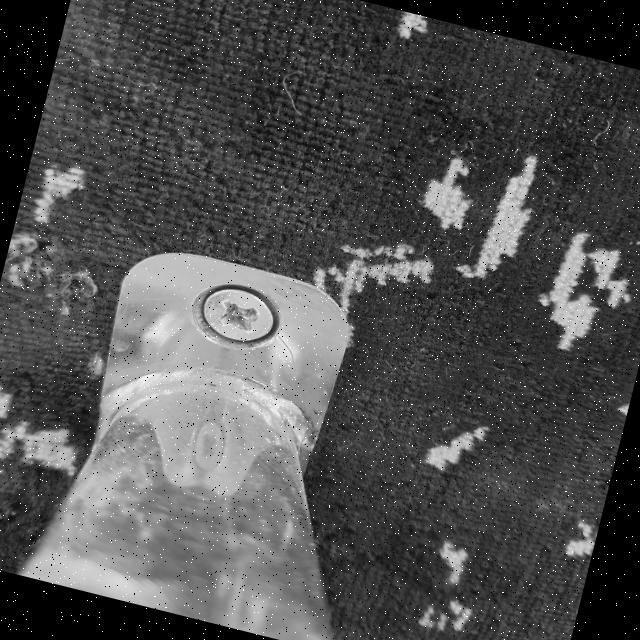Phillips: (188, 278, 284, 356)
